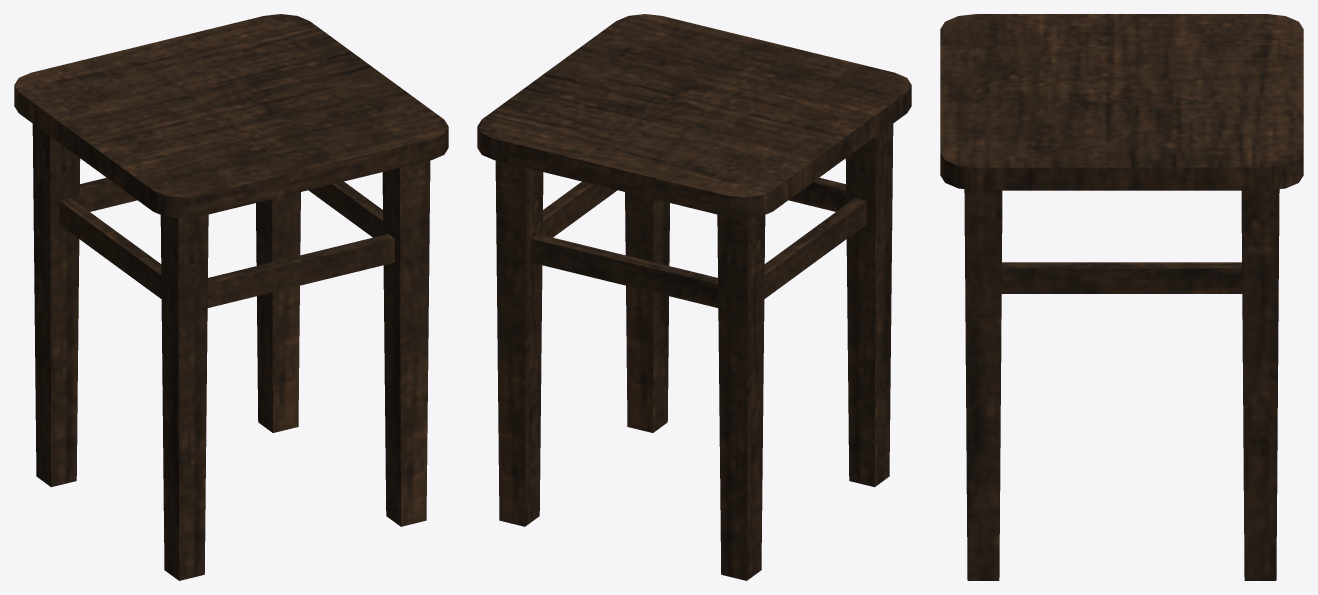
The model's file is chair_mp_2_1.dae.
3 renders of one model, left to right at view 1: azimuth 30°, elevation 25°; view 2: azimuth 150°, elevation 25°; view 3: azimuth 270°, elevation 25°, orthographic. The views are drawn at different scales.
Visible parts, largest first — view 1: chair_mp_2_1; view 2: chair_mp_2_1; view 3: chair_mp_2_1.
Boxes of the visible parts, left/top/right/bottom form: chair_mp_2_1: left=14, top=14, right=448, bottom=580; chair_mp_2_1: left=477, top=14, right=911, bottom=580; chair_mp_2_1: left=940, top=14, right=1303, bottom=580.
Size of the model in its own units: 0.4607 by 0.4607 by 0.594.
1 material, 1 textured.
